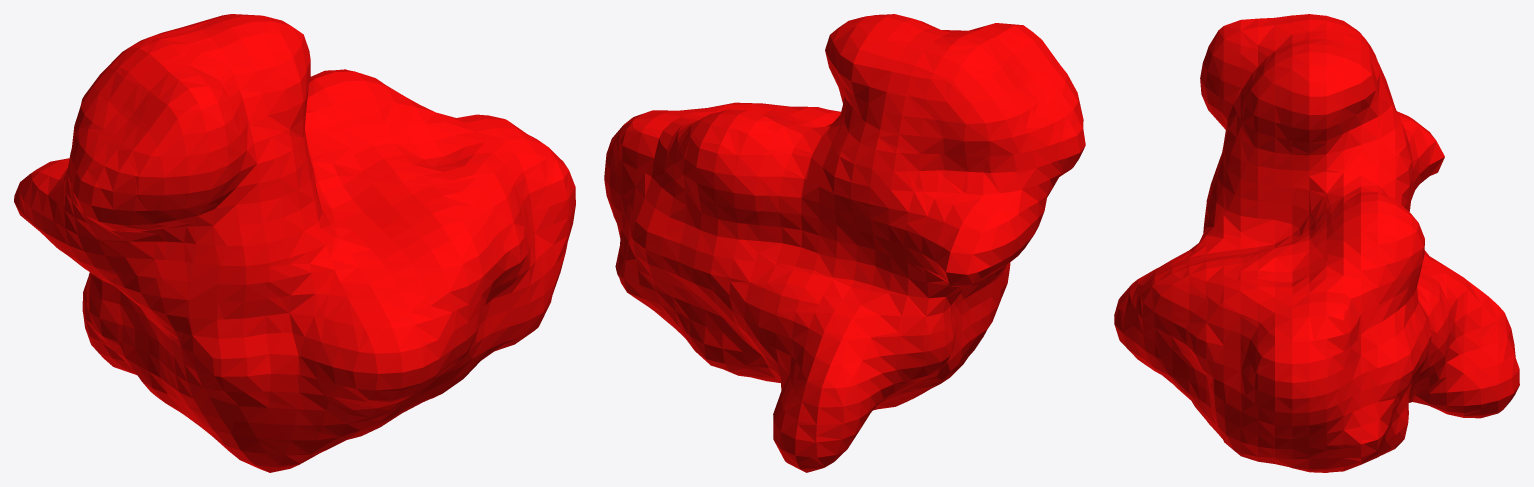
File: uxuR_coarse.dae
3 renders of one model, left to right at view 1: azimuth 30°, elevation 25°; view 2: azimuth 150°, elevation 25°; view 3: azimuth 270°, elevation 25°, orthographic. The views are drawn at different scales.
Visible parts, largest first — view 1: uxuR; view 2: uxuR; view 3: uxuR.
Boxes of the visible parts, x1=… form: uxuR: x1=14, y1=14, x2=575, y2=472; uxuR: x1=604, y1=14, x2=1085, y2=472; uxuR: x1=1114, y1=14, x2=1519, y2=472.
Size of the model in its own units: 63.04 by 51.27 by 49.99.
